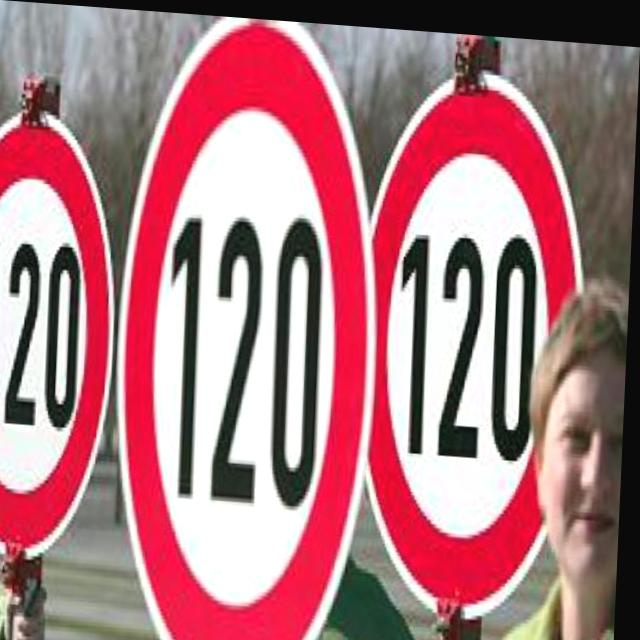limit120: (110, 8, 395, 640), (354, 61, 608, 630), (0, 99, 129, 579)
